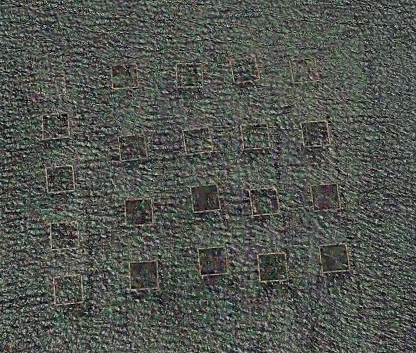square: (194, 242, 238, 282), (253, 245, 293, 288), (123, 255, 168, 293), (47, 271, 91, 309), (313, 239, 357, 276), (41, 160, 81, 199), (245, 184, 285, 221), (308, 179, 347, 215), (46, 217, 83, 254), (285, 54, 325, 87), (297, 115, 334, 150), (179, 125, 217, 159), (38, 110, 74, 145), (106, 61, 143, 95), (236, 120, 272, 154), (114, 130, 151, 163), (226, 52, 264, 84), (122, 195, 157, 229), (188, 182, 223, 215), (173, 60, 206, 92)
